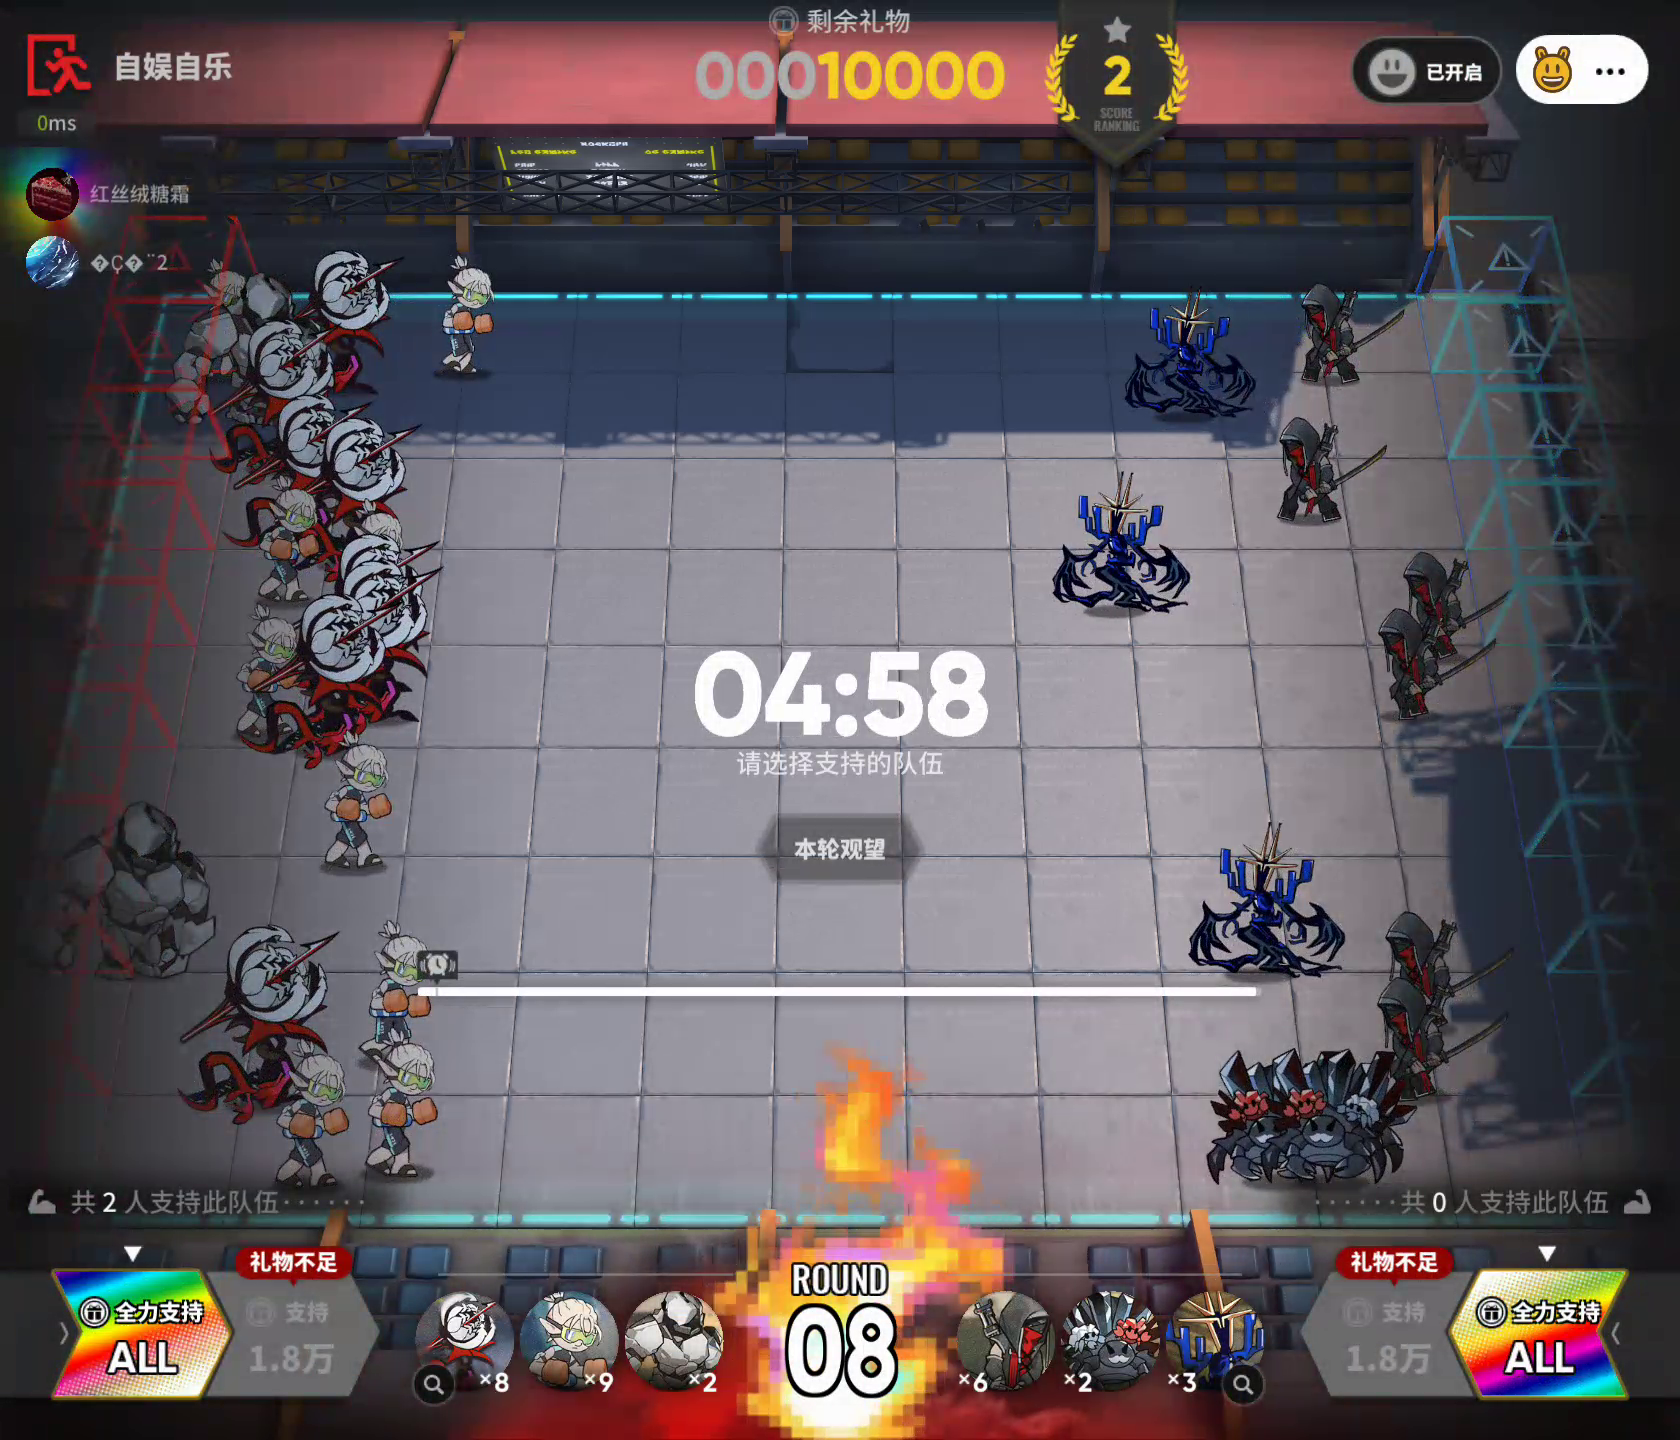“火苗与软钢”: (1367, 976, 1509, 1106), (1374, 899, 1519, 1011), (1370, 600, 1501, 721), (1394, 541, 1514, 654), (1273, 414, 1394, 521), (1294, 281, 1411, 381), (954, 1286, 1057, 1399)
拳击宗师: (261, 1039, 353, 1199), (359, 1029, 440, 1186), (519, 1283, 626, 1399), (361, 917, 444, 1061), (317, 731, 396, 881), (231, 606, 309, 751), (434, 249, 506, 390), (259, 474, 330, 606), (183, 251, 263, 320)
标枪恐鱼: (171, 910, 361, 1130), (234, 409, 437, 589), (247, 581, 416, 766), (321, 559, 480, 724), (200, 311, 353, 471), (211, 394, 389, 511), (277, 244, 411, 396), (411, 1283, 514, 1401), (321, 529, 457, 594)
狂躁珊瑚: (1170, 819, 1350, 986), (1034, 461, 1206, 619), (1107, 277, 1269, 437), (1160, 1283, 1283, 1407)
砸人的石头: (31, 786, 226, 993), (159, 276, 303, 426), (626, 1283, 729, 1404)
蟹蟹爷爷: (1270, 1046, 1433, 1186), (1054, 1280, 1167, 1406), (1203, 1041, 1286, 1186)
